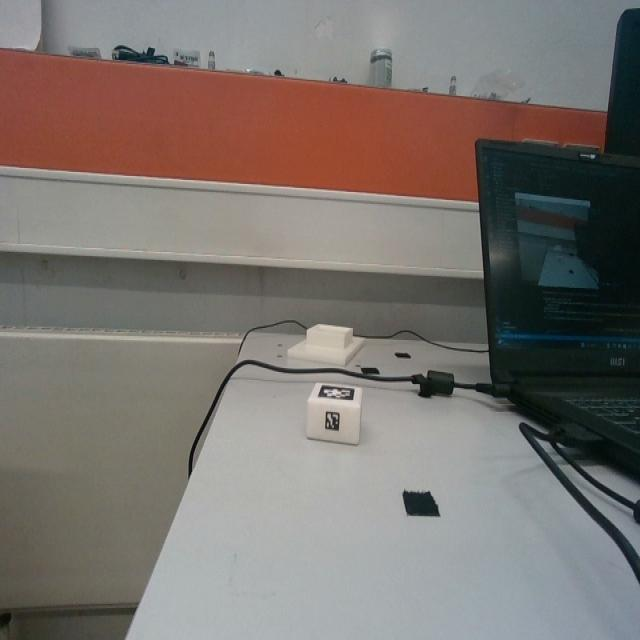Cube: (306, 380, 363, 444)
